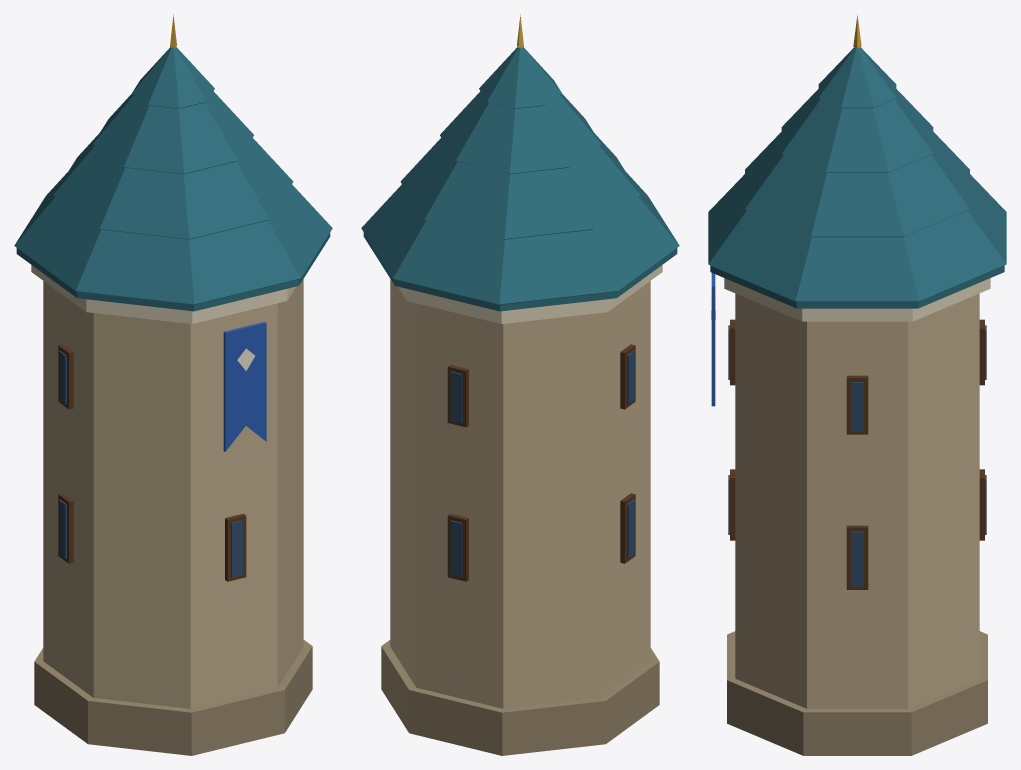
File: Wall_TowerRound.fbx
3 renders of one model, left to right at view 1: azimuth 30°, elevation 25°; view 2: azimuth 150°, elevation 25°; view 3: azimuth 270°, elevation 25°, orthographic.
Parts seen in each view (by area): view 1: Wall_TowerRound; view 2: Wall_TowerRound; view 3: Wall_TowerRound.
Boxes of the visible parts, bbox=[...] form: Wall_TowerRound: bbox=[14, 14, 332, 755]; Wall_TowerRound: bbox=[361, 14, 679, 755]; Wall_TowerRound: bbox=[708, 14, 1006, 755].
Bounding box in the file's own units: 4.97 × 12.62 × 4.97.
